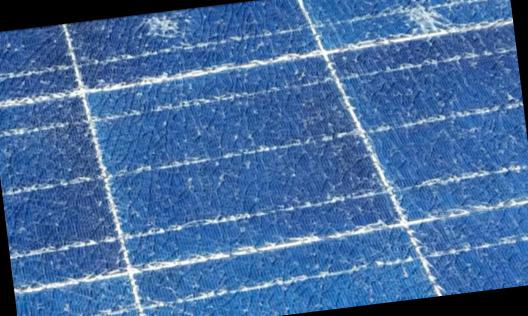Crack: (357, 0, 485, 72), (114, 6, 214, 62)
